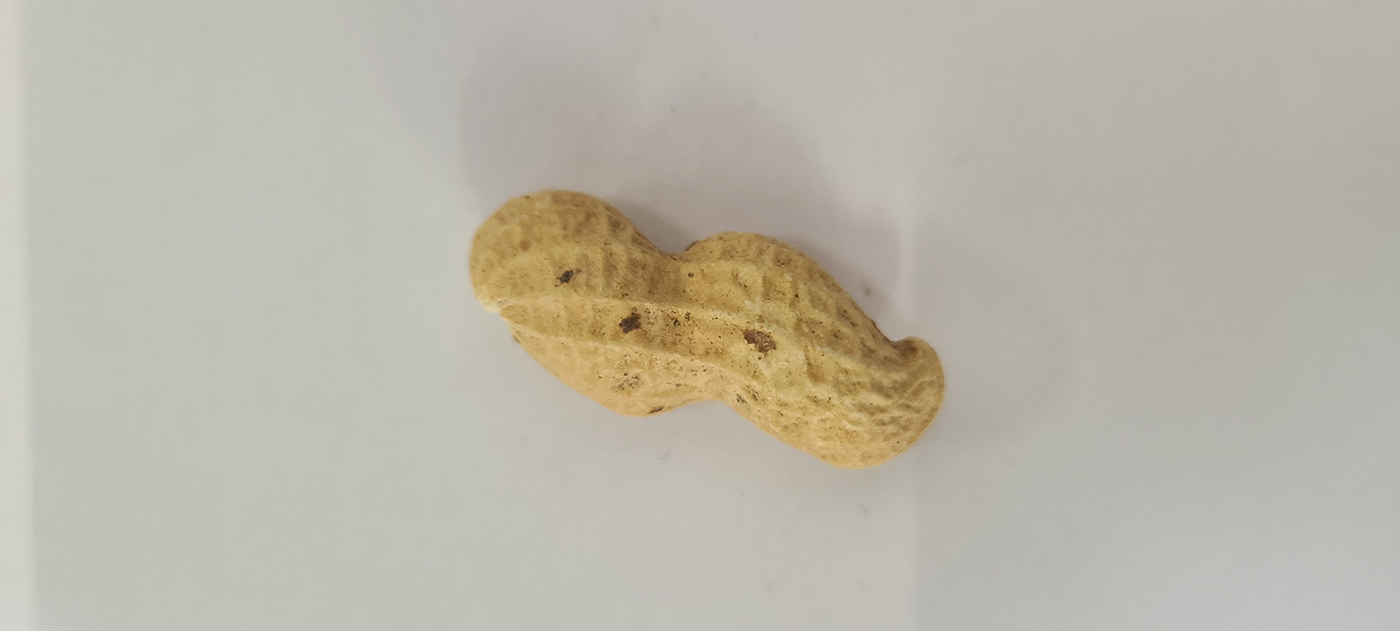h: (466, 189, 946, 472)
